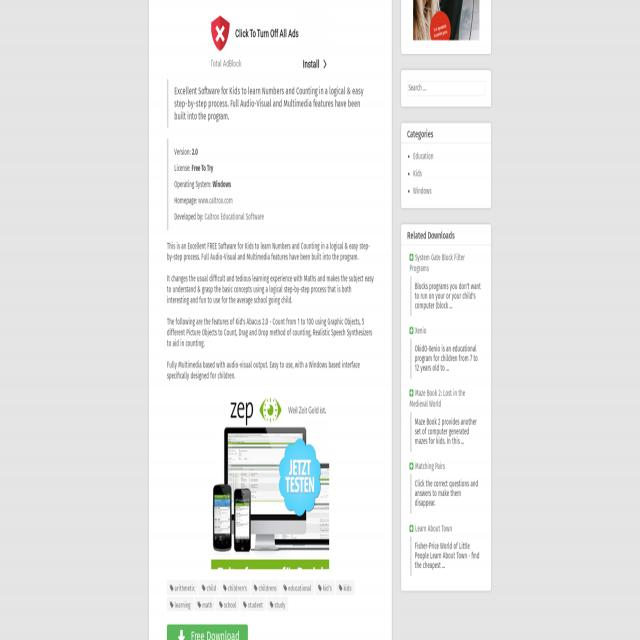field: (407, 80, 485, 96)
